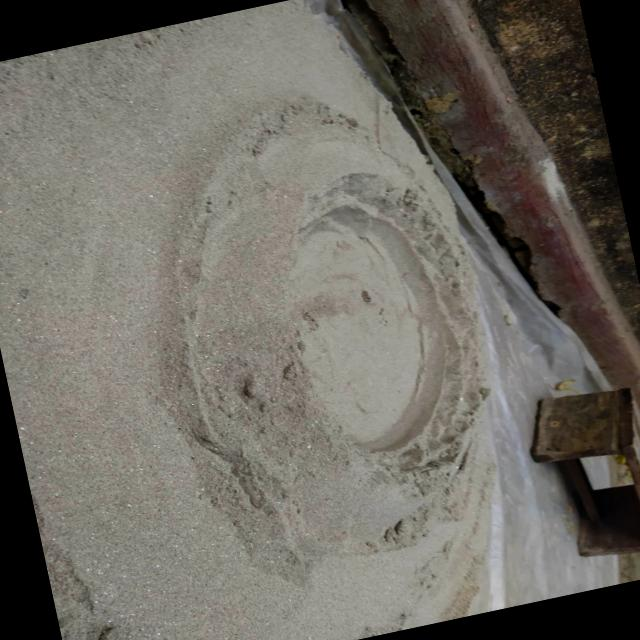C40: (289, 206, 455, 451)
